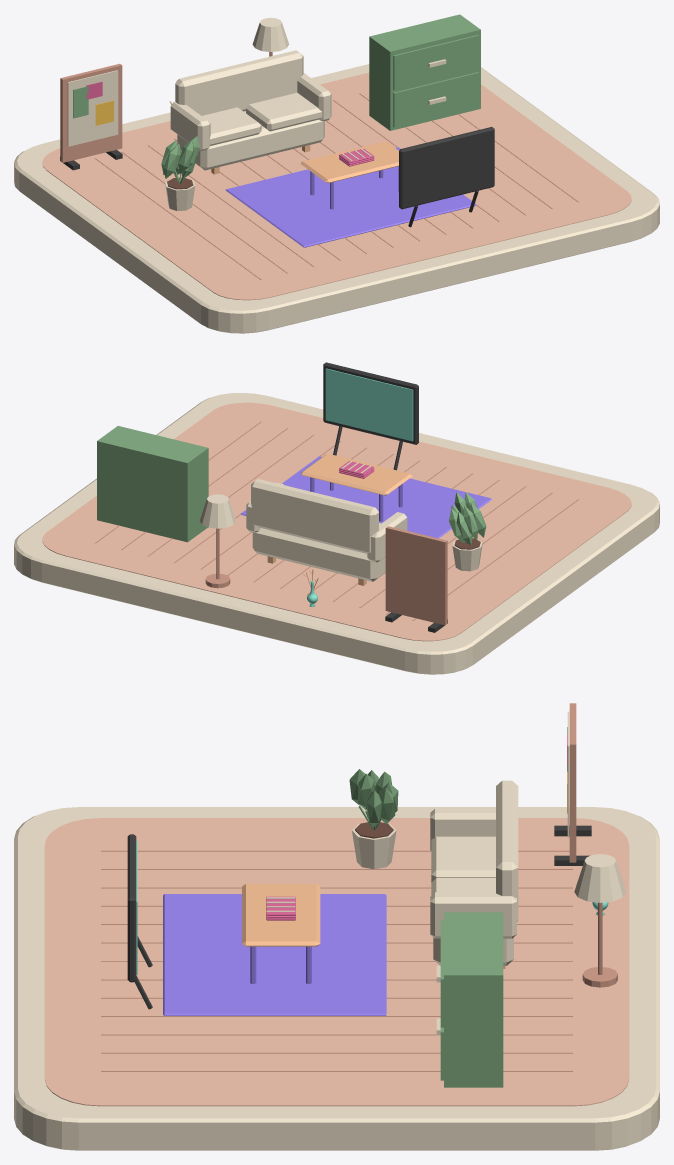
Rendered from room.fbx.
The picture shows the model from 3 angles, top to bottom: view 1: azimuth 30°, elevation 25°; view 2: azimuth 150°, elevation 25°; view 3: azimuth 270°, elevation 25°; orthographic projection. The views are drawn at different scales.
Parts seen in each view (by area): view 1: COM-02 Floor Surface, COM-01 Rounded Base Direct, Cabinet, Rug, TV frame, Back, Base, Canvas, Panel, Rounded table top, Pot, Seat cushion.001 (+4 smaller); view 2: COM-02 Floor Surface, COM-01 Rounded Base Direct, Cabinet, Back, Panel, Screen, Rug, Base, Rounded table top, Pot, TV frame, Lamp shade (+1 smaller); view 3: COM-02 Floor Surface, COM-01 Rounded Base Direct, Rug, Cabinet, Rounded table top, Pot, Seat cushion, Back, Arm.001, Lamp shade, Arm, TV frame (+5 smaller).
Boxes of the visible parts, x1,y1,x2,y2 form: COM-02 Floor Surface: [42, 72, 631, 300]; COM-01 Rounded Base Direct: [14, 64, 659, 333]; Cabinet: [369, 14, 480, 130]; Rug: [225, 147, 476, 247]; TV frame: [399, 127, 494, 209]; Back: [175, 50, 303, 115]; Base: [177, 111, 324, 170]; Canvas: [67, 70, 118, 146]; Panel: [60, 63, 122, 162]; Rounded table top: [301, 141, 398, 183]; Pot: [161, 136, 199, 210]; Seat cushion.001: [246, 92, 322, 131]; COM-02 Floor Surface: [42, 402, 631, 641]; COM-01 Rounded Base Direct: [14, 393, 659, 674]; Cabinet: [97, 426, 208, 542]; Back: [251, 479, 378, 553]; Panel: [385, 526, 447, 625]; Screen: [325, 368, 413, 441]; Rug: [241, 456, 491, 538]; Base: [252, 528, 385, 581]; Rounded table top: [301, 453, 412, 495]; Pot: [448, 492, 486, 571]; TV frame: [323, 362, 418, 444]; Lamp shade: [199, 494, 235, 528]; COM-02 Floor Surface: [44, 818, 629, 1106]; COM-01 Rounded Base Direct: [14, 807, 659, 1150]; Rug: [163, 894, 386, 1015]; Cabinet: [436, 912, 503, 1087]; Rounded table top: [242, 884, 320, 946]; Pot: [349, 769, 398, 868]; Seat cushion: [431, 836, 495, 882]; Back: [496, 780, 518, 921]; Arm.001: [430, 892, 516, 938]; Lamp shade: [574, 854, 626, 902]; Arm: [430, 808, 495, 850]; TV frame: [127, 834, 136, 982].
Size of the model in its own units: 600 by 141 by 520.
